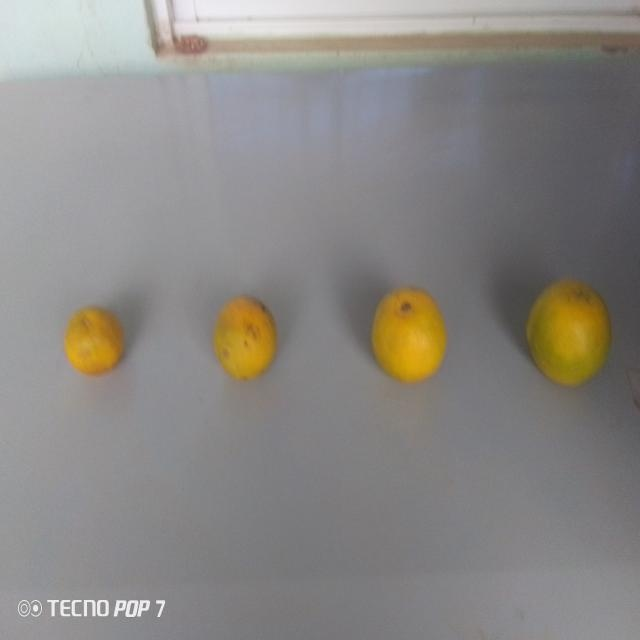agrume: (514, 273, 614, 399), (360, 280, 450, 400), (209, 291, 282, 385), (62, 297, 135, 387)
